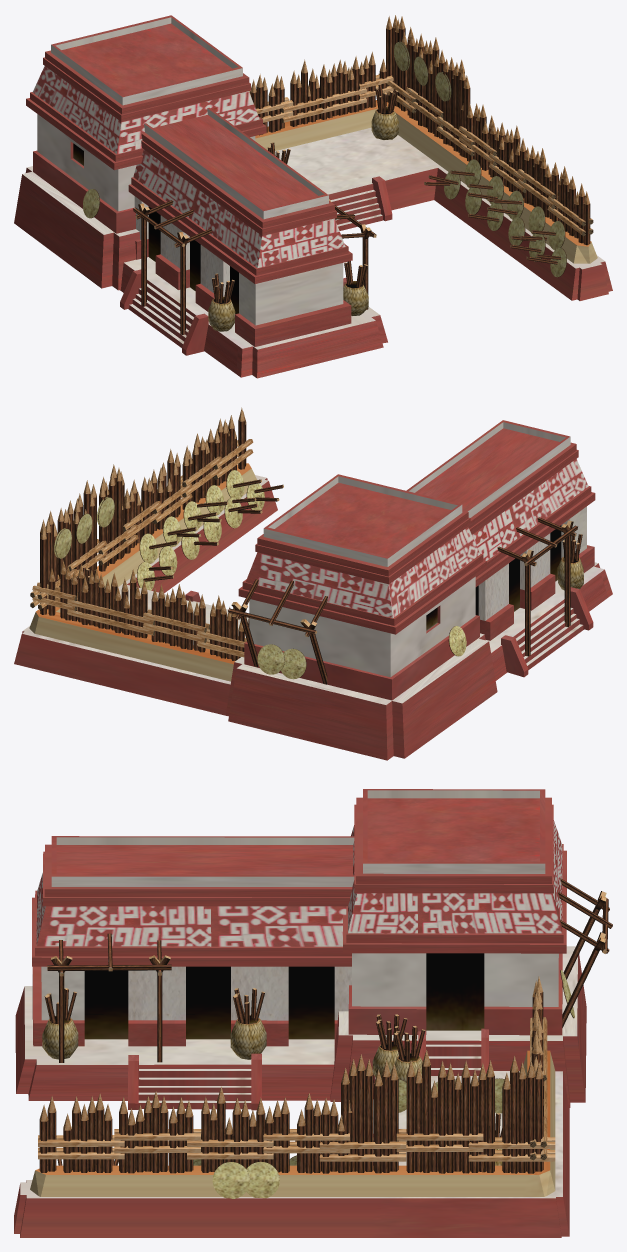
Rendered from range.dae.
3 renders of one model, top to bottom at view 1: azimuth 30°, elevation 25°; view 2: azimuth 150°, elevation 25°; view 3: azimuth 270°, elevation 25°, orthographic. The views are drawn at different scales.
Parts seen in each view (by area): view 1: Range; view 2: Range; view 3: Range.
Part boxes in pixels (x1,y1,x2,y2): Range: (14, 15, 612, 378); Range: (14, 407, 612, 760); Range: (14, 789, 612, 1237).
Size of the model in its own units: 24.87 by 26.33 by 11.18.
Materials: 1 (1 with a texture image).
